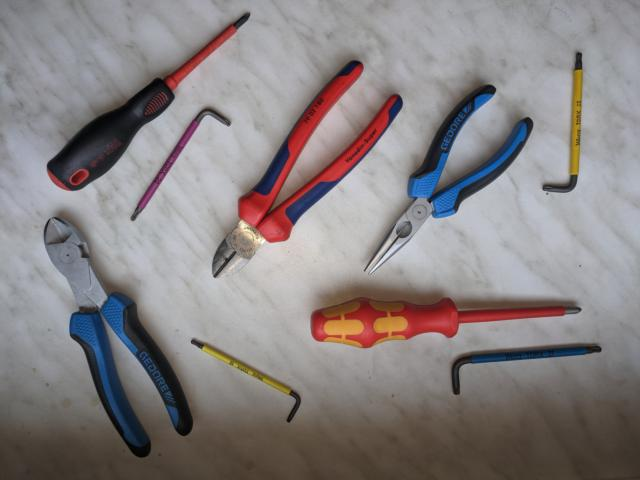Inbusschlüssel: (127, 105, 235, 225), (188, 335, 304, 427), (446, 343, 606, 399), (539, 48, 586, 198)
Schraubendreher: (42, 9, 255, 194), (308, 294, 586, 349)
Seitenschneider: (210, 55, 407, 282), (40, 213, 197, 461)
Zange: (360, 80, 537, 278)
